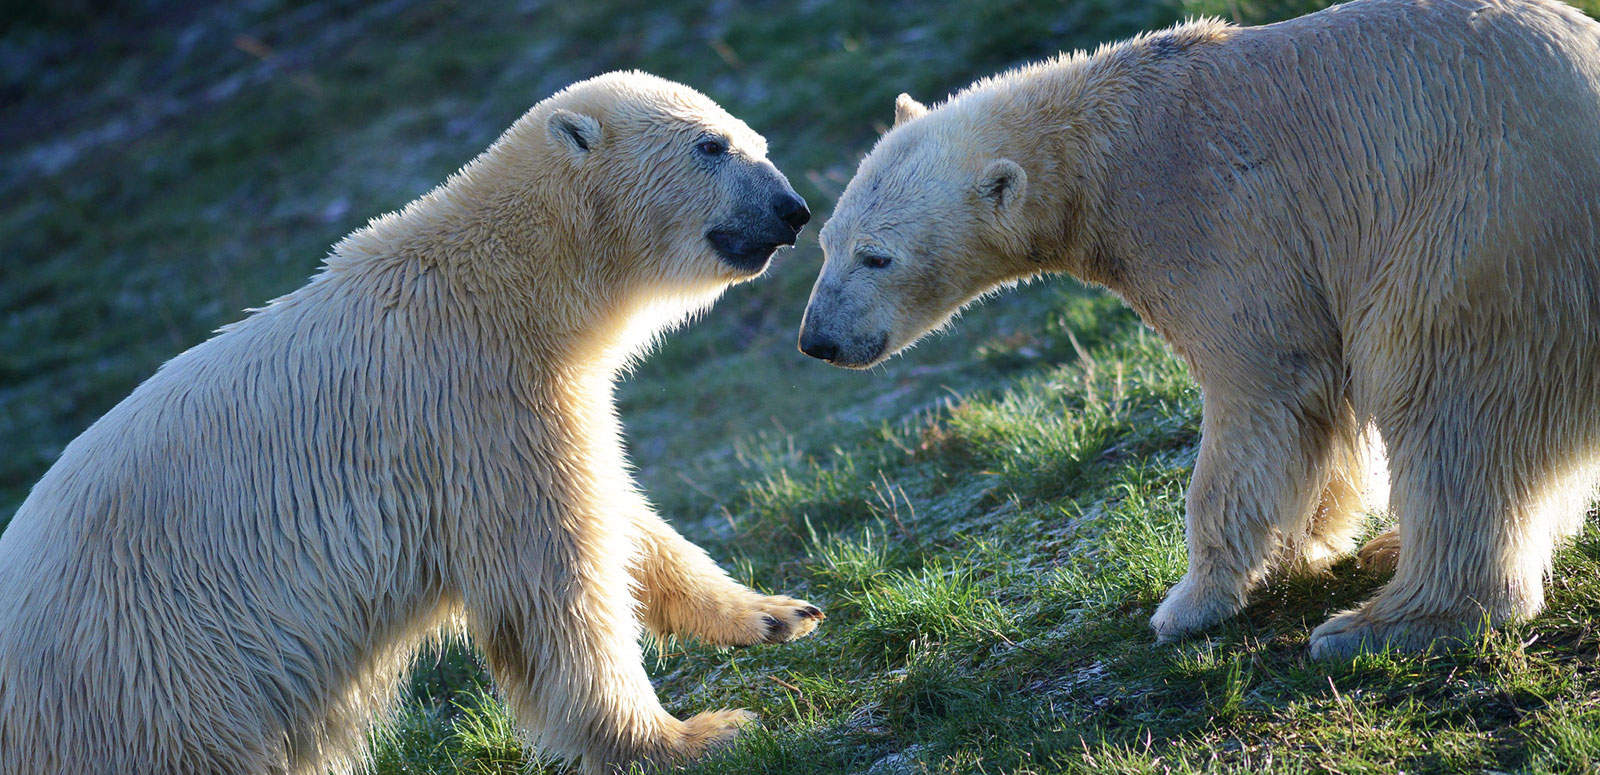Polar Bear: (1, 25, 801, 751), (812, 55, 1578, 775)
